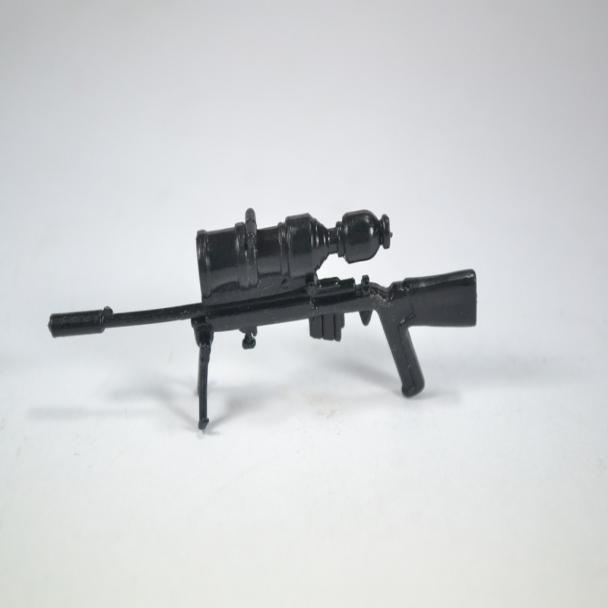Gun: (41, 170, 496, 447)
